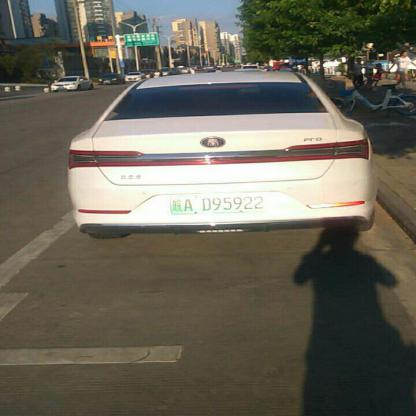lp: (169, 193, 268, 213)
